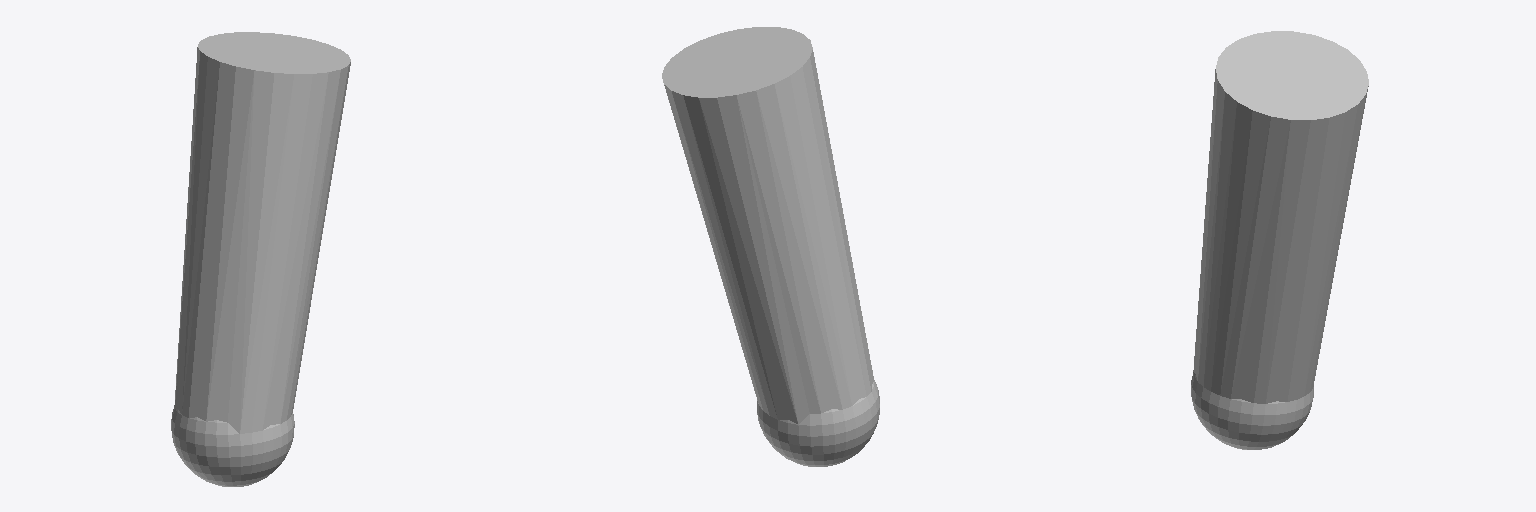
The model's file is Right Lower Leg.obj.
3 views of the same model, side by side, from view 1: azimuth 30°, elevation 25°; view 2: azimuth 150°, elevation 25°; view 3: azimuth 270°, elevation 25° (orthographic).
Visible parts, largest first — view 1: Right_Lower_Leg_Sphere.010; view 2: Right_Lower_Leg_Sphere.010; view 3: Right_Lower_Leg_Sphere.010.
Boxes of the visible parts, x1,y1,x2,y2 form: Right_Lower_Leg_Sphere.010: [171, 32, 350, 486]; Right_Lower_Leg_Sphere.010: [662, 27, 879, 466]; Right_Lower_Leg_Sphere.010: [1191, 31, 1368, 449].
Bounding box in the file's own units: 0.8659 × 1.89 × 0.7388.